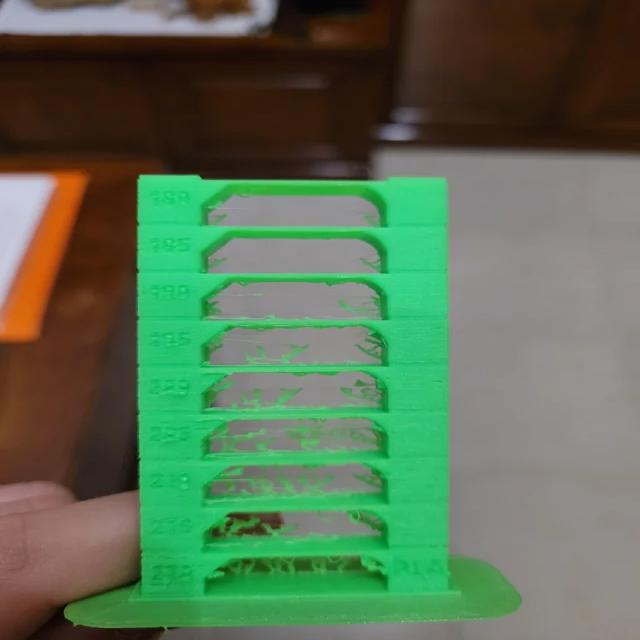Stringing: (208, 291, 378, 576)
